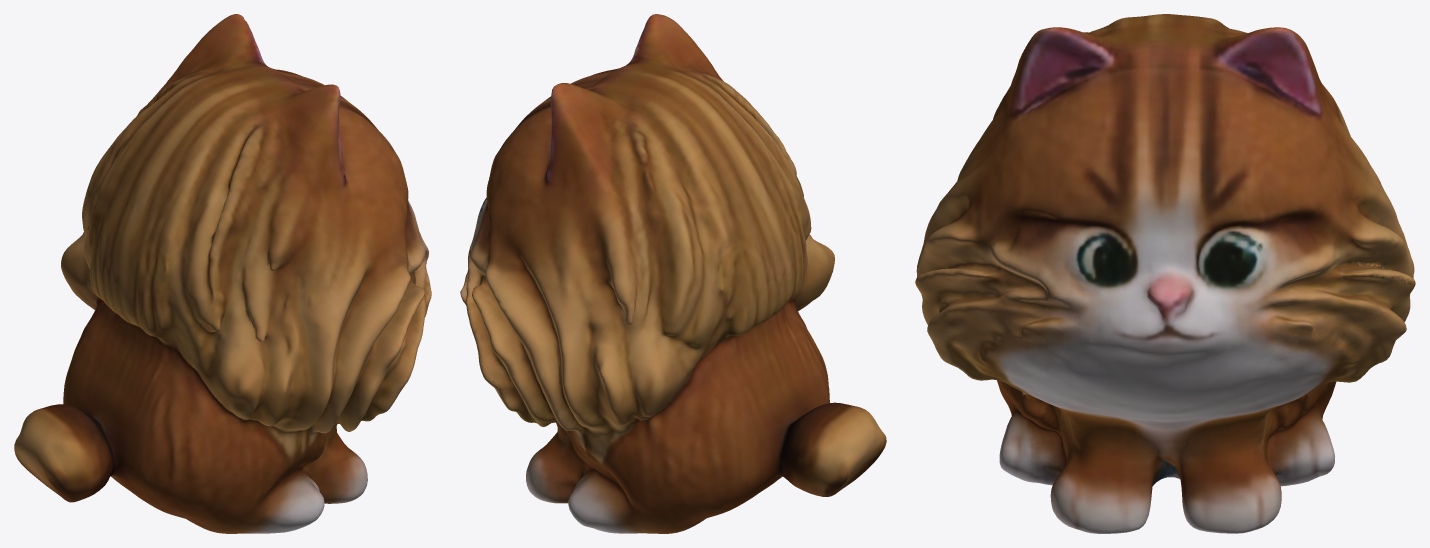
The model's file is cat.glb.
The picture shows the model from 3 angles, left to right: view 1: azimuth 30°, elevation 25°; view 2: azimuth 150°, elevation 25°; view 3: azimuth 270°, elevation 25°; orthographic projection. The views are drawn at different scales.
Parts seen in each view (by area): view 1: world.001; view 2: world.001; view 3: world.001.
Part boxes in pixels (x1=…): world.001: x1=14, y1=14, x2=431, y2=533; world.001: x1=460, y1=14, x2=886, y2=533; world.001: x1=915, y1=14, x2=1415, y2=533.
Size of the model in its own units: 0.4899 by 0.5215 by 0.4855.
Materials: 1 (1 with a texture image).
